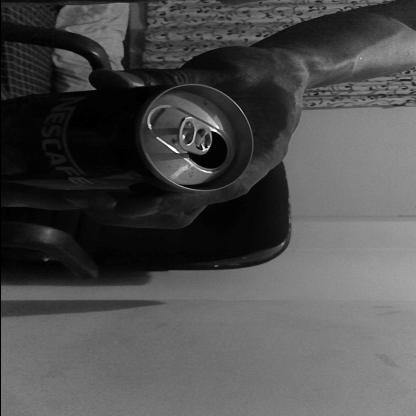alumunium_can: (5, 86, 252, 196)
